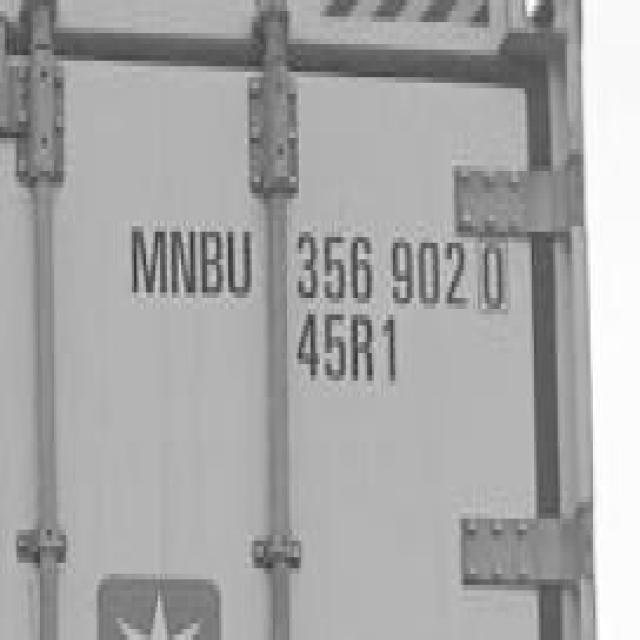dv: (473, 227, 512, 312)
owner: (120, 200, 254, 317)
serial: (285, 206, 467, 312)
size: (294, 303, 402, 420)
